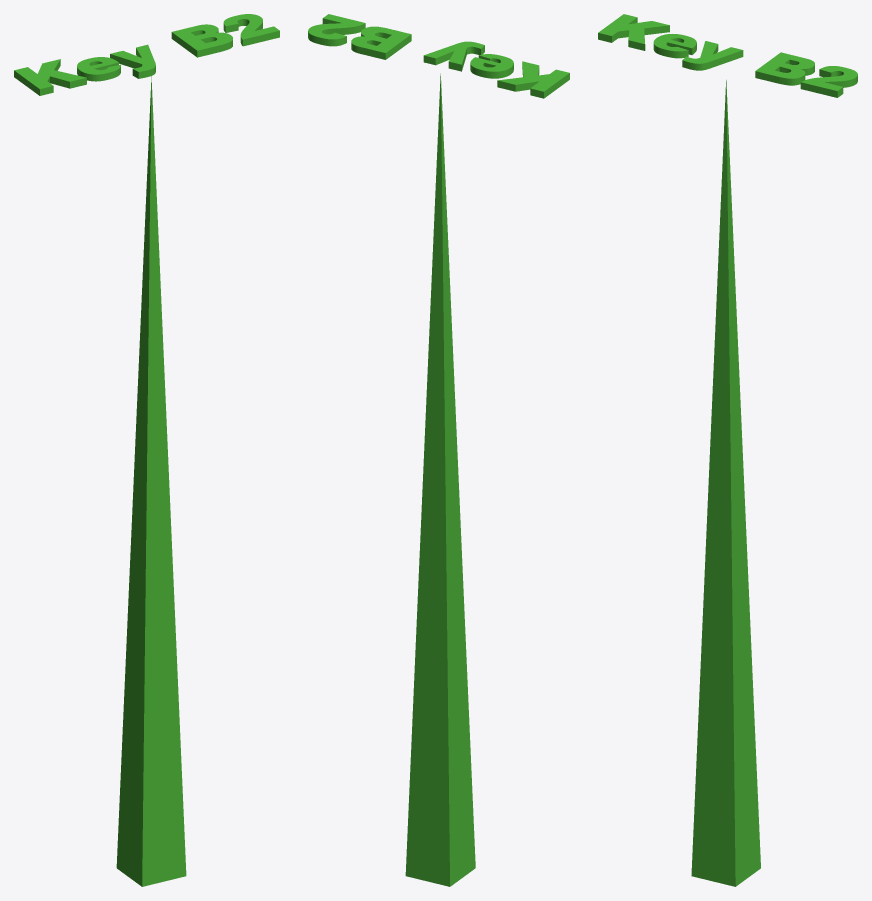
Rendered from Tag_Key_B2.FBX.
3 renders of one model, left to right at view 1: azimuth 30°, elevation 25°; view 2: azimuth 150°, elevation 25°; view 3: azimuth 330°, elevation 25°, orthographic.
Visible parts, largest first — view 1: Tag_Nail_Key003, Tag_Text_Key_04; view 2: Tag_Nail_Key003, Tag_Text_Key_04; view 3: Tag_Nail_Key003, Tag_Text_Key_04.
Part boxes in pixels (x1,y1,x2,y2): Tag_Nail_Key003: (116,76,186,886); Tag_Text_Key_04: (14,14,279,95); Tag_Nail_Key003: (405,73,475,886); Tag_Text_Key_04: (308,14,569,98); Tag_Nail_Key003: (691,80,760,886); Tag_Text_Key_04: (598,14,857,97).
Size of the model in its own units: 597 by 1944 by 145.
